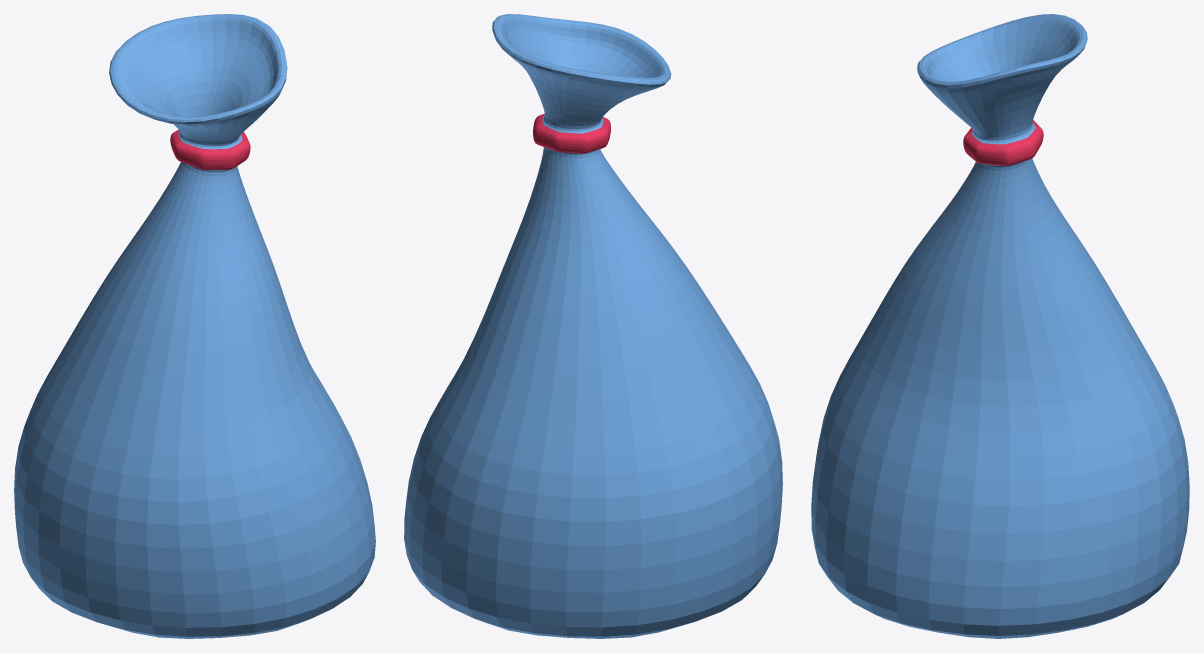
The model's file is Meshok.fbx.
3 views of the same model, side by side, from view 1: azimuth 30°, elevation 25°; view 2: azimuth 150°, elevation 25°; view 3: azimuth 270°, elevation 25° (orthographic). The views are drawn at different scales.
Parts seen in each view (by area): view 1: Circle; view 2: Circle; view 3: Circle.
Part boxes in pixels (left/top/right/bottom): Circle: left=14, top=14, right=375, bottom=638; Circle: left=404, top=14, right=782, bottom=638; Circle: left=811, top=14, right=1189, bottom=638.
Bounding box in the file's own units: 201 × 328 × 202.
